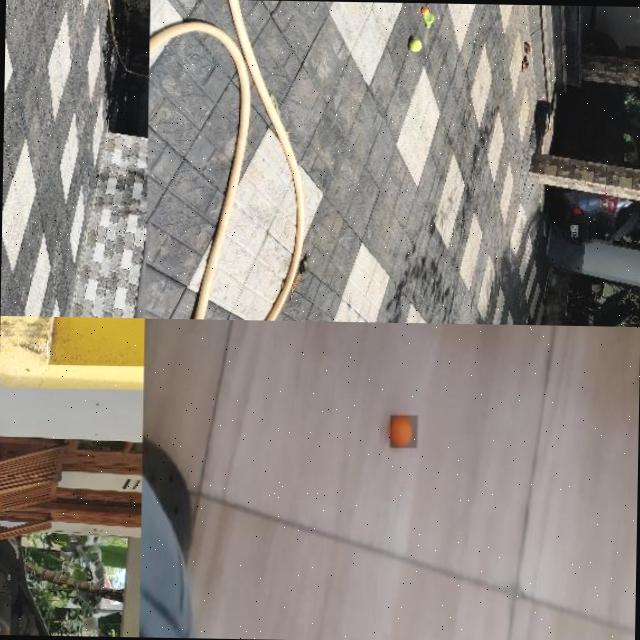ping-pong-ball: (388, 413, 418, 448), (421, 7, 429, 13)
